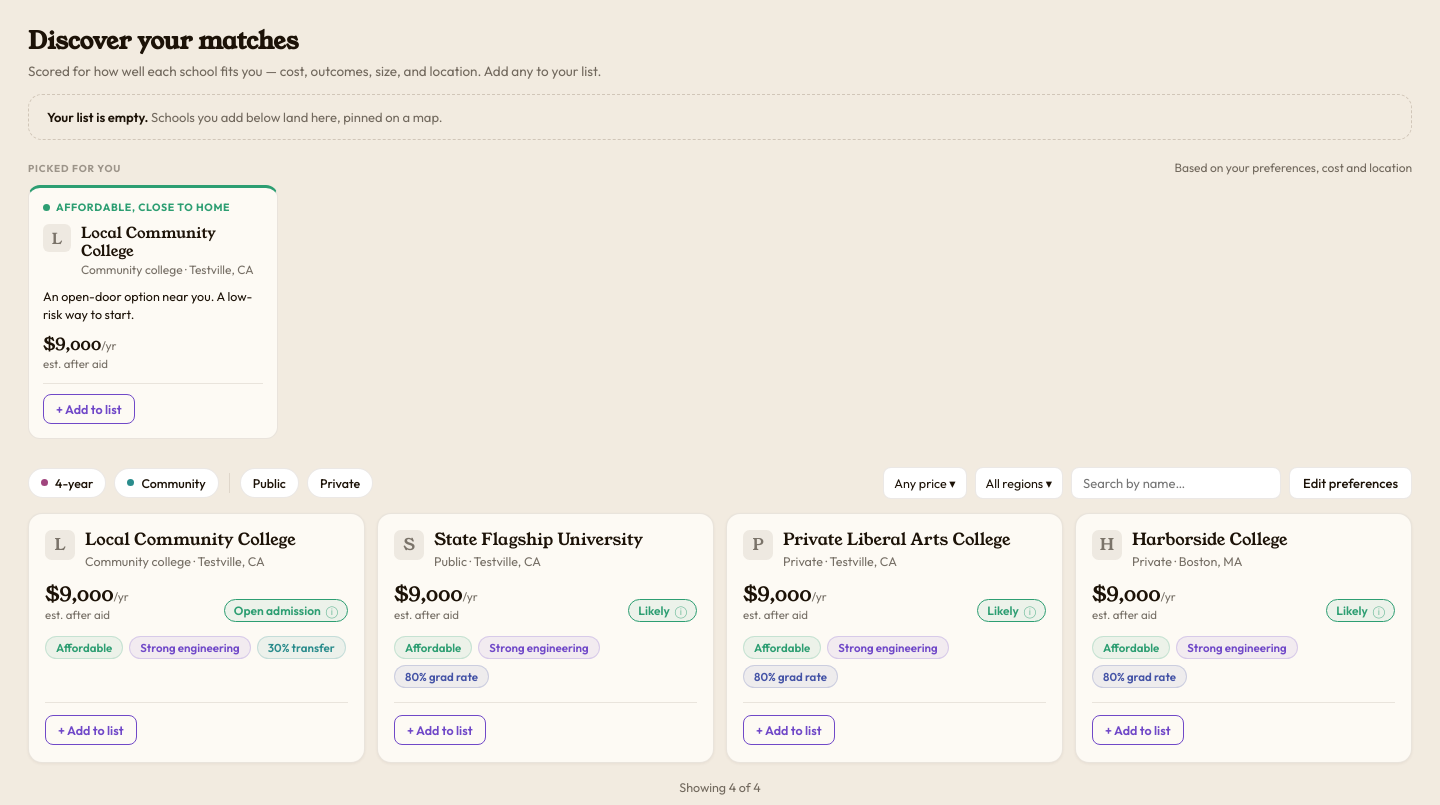
CollegeDiscoverTab › keeps the page in place while a search runs
Type "St" into the search field with placeholder "Search by name…". click: (1176, 483)
box: x1=1071 y1=467 x2=1281 y2=499
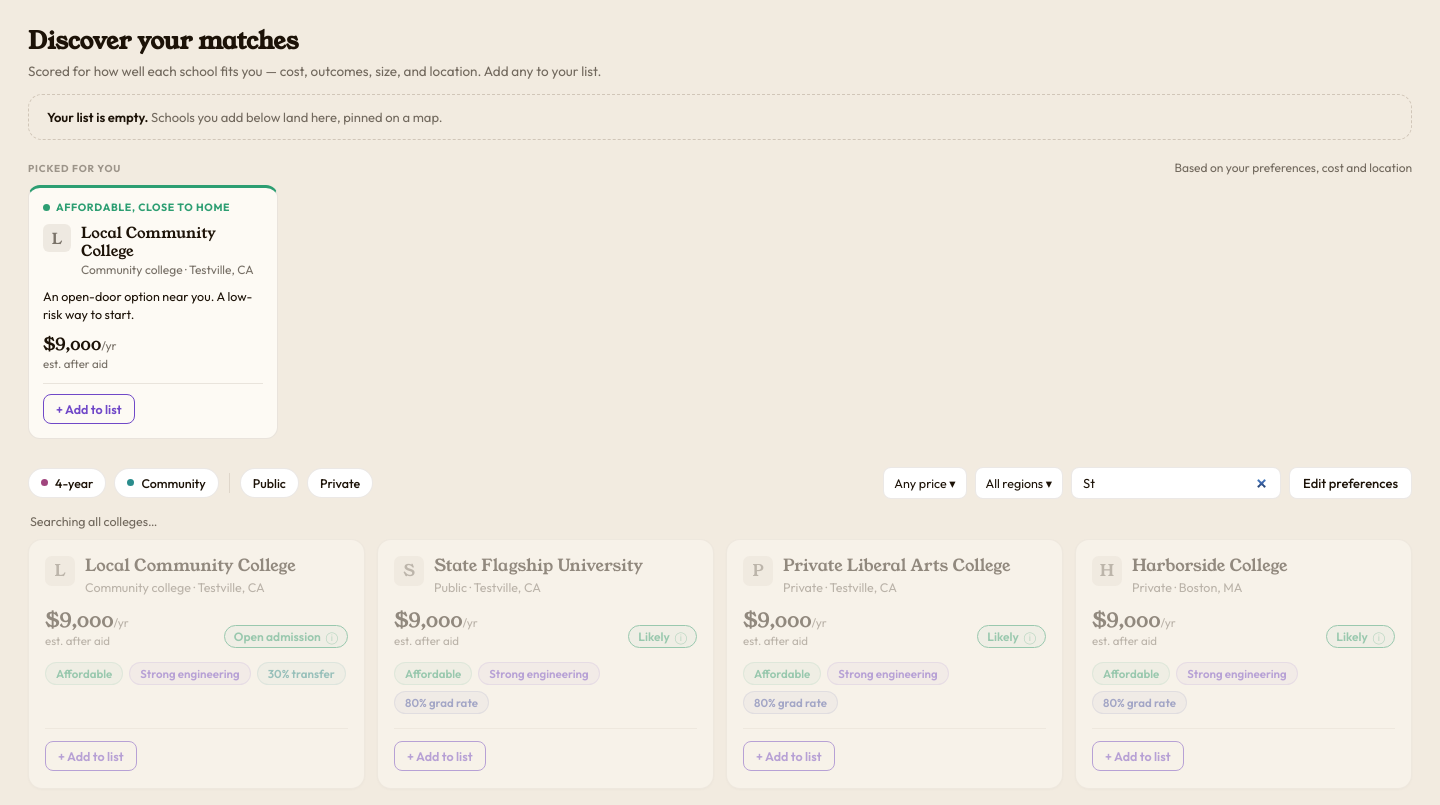
Expected: the text "Picked for you" is shown, x1=28 y1=162 x2=121 y2=175
Expected: the message reads "Searching all colleges…", x1=30 y1=513 x2=158 y2=529
